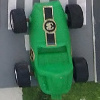verde: (11, 4, 88, 98)
